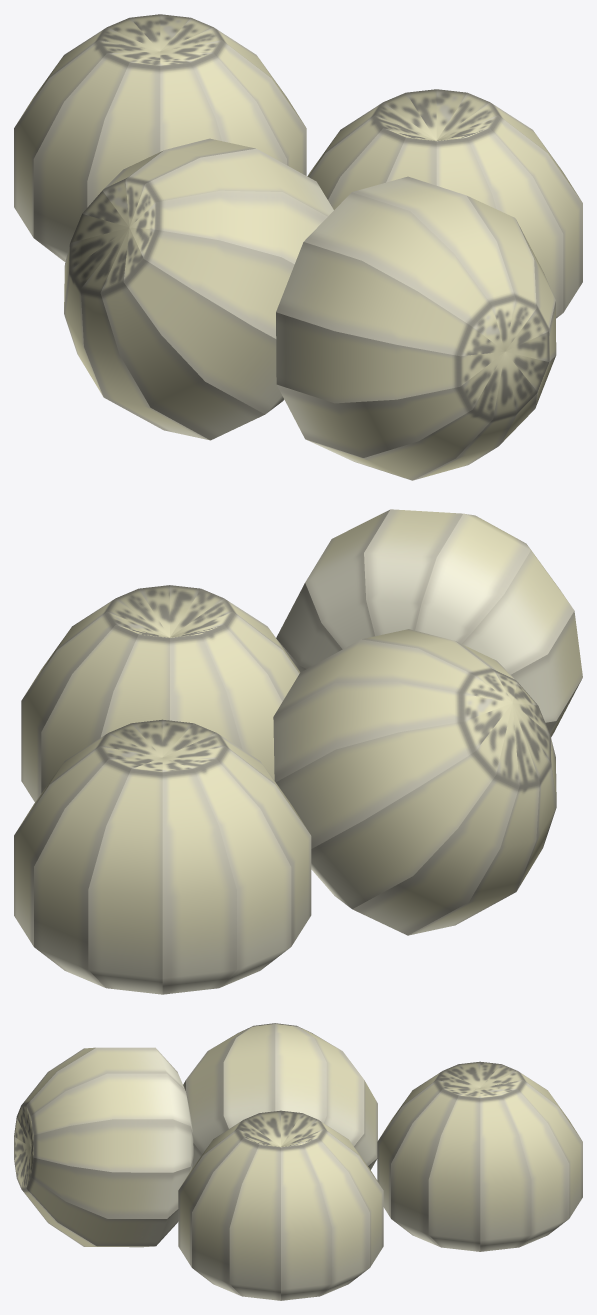
Rendered from Garlic.fbx.
3 renders of one model, top to bottom at view 1: azimuth 30°, elevation 25°; view 2: azimuth 150°, elevation 25°; view 3: azimuth 270°, elevation 25°, orthographic. The views are drawn at different scales.
Parts seen in each view (by area): view 1: pSphere12; view 2: pSphere12; view 3: pSphere12.
Part boxes in pixels (x1=…): pSphere12: x1=14, y1=14, x2=582, y2=480; pSphere12: x1=14, y1=509, x2=582, y2=994; pSphere12: x1=14, y1=1023, x2=582, y2=1300.
Size of the model in its own units: 9.99 by 5.55 by 14.39.
